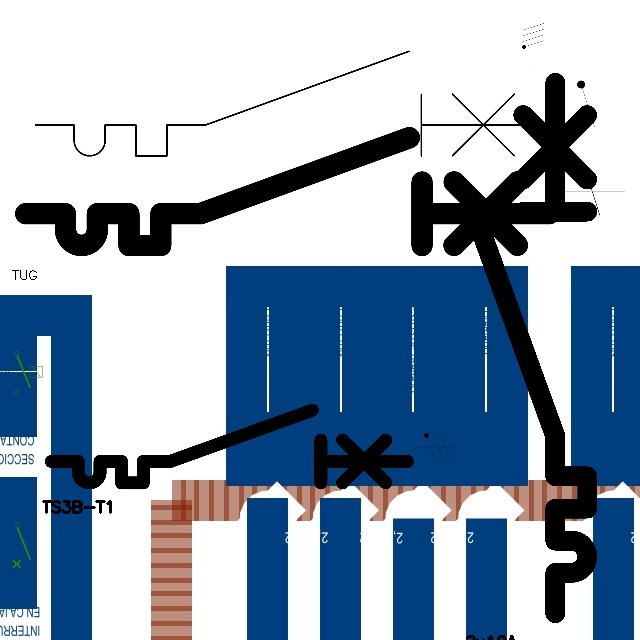interruptor_termomagnetico: (465, 69, 601, 627), (12, 124, 563, 259), (22, 38, 558, 169), (42, 401, 416, 492)
